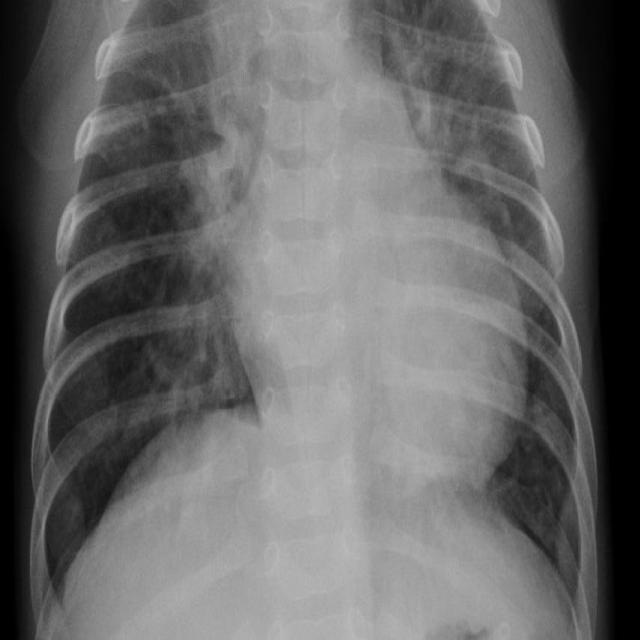low-pneumonia: (180, 1, 269, 249), (387, 1, 488, 171)
